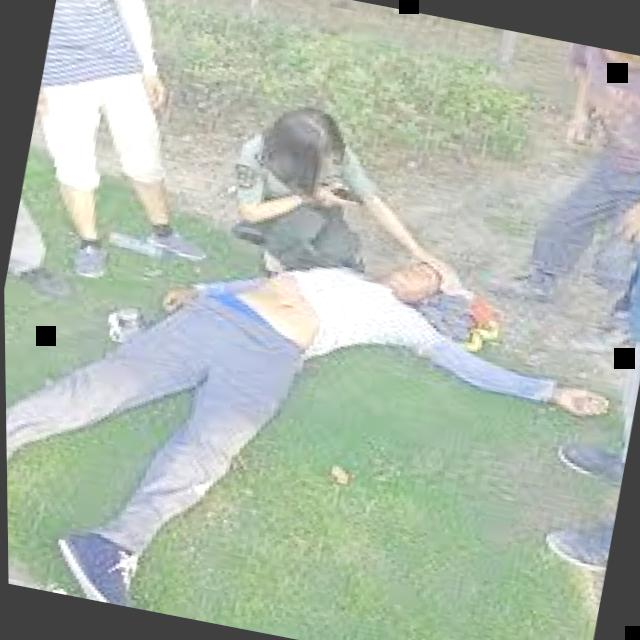Fall-Detected: (2, 159, 640, 640)
